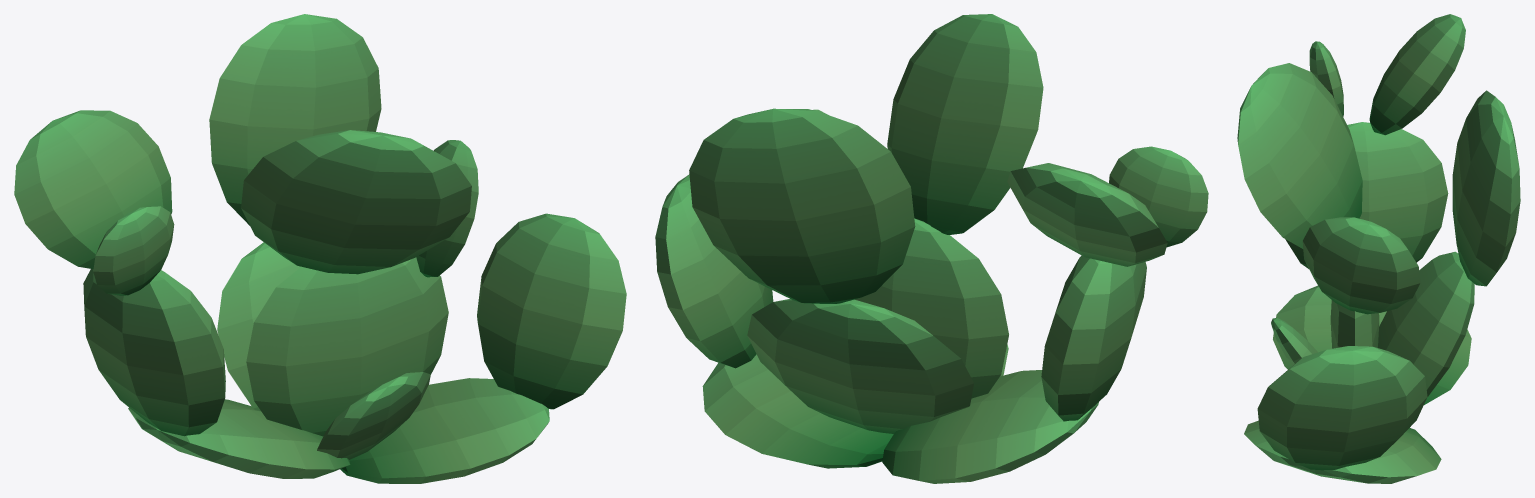
The model's file is Plant 1.fbx.
3 renders of one model, left to right at view 1: azimuth 30°, elevation 25°; view 2: azimuth 150°, elevation 25°; view 3: azimuth 270°, elevation 25°, orthographic. The views are drawn at different scales.
Parts seen in each view (by area): view 1: Prickly_Pear_Cactus; view 2: Prickly_Pear_Cactus; view 3: Prickly_Pear_Cactus.
Part boxes in pixels (x1=…): Prickly_Pear_Cactus: x1=14, y1=14, x2=626, y2=483; Prickly_Pear_Cactus: x1=655, y1=14, x2=1208, y2=483; Prickly_Pear_Cactus: x1=1237, y1=14, x2=1520, y2=483.
Size of the model in its own units: 26.35 by 18.77 by 14.08.
1 material, 1 textured.
